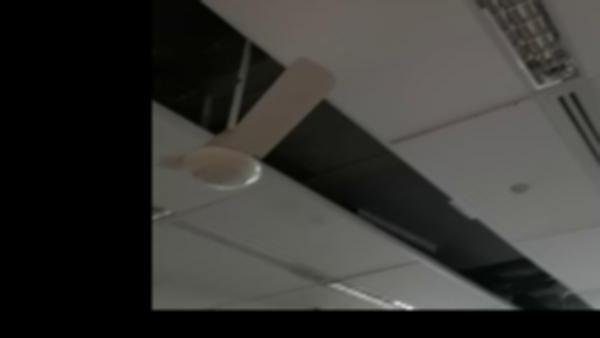light_off: (431, 0, 600, 98)
